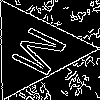M: (9, 24, 78, 83)
